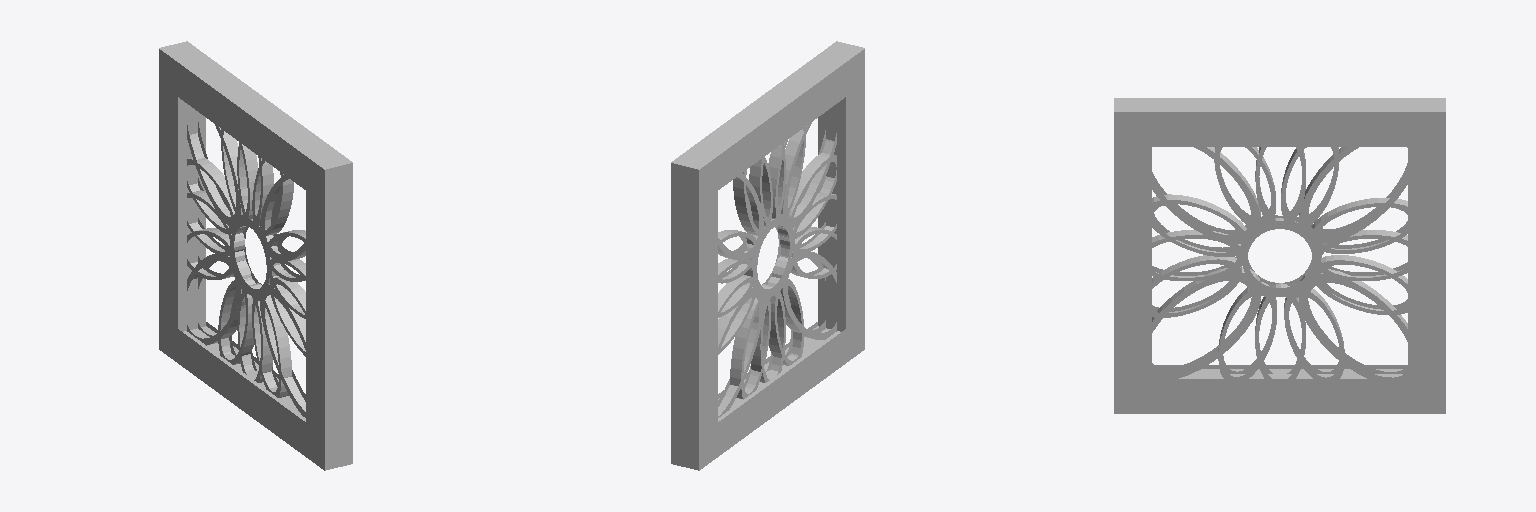
File: mirror.obj
3 renders of one model, left to right at view 1: azimuth 30°, elevation 25°; view 2: azimuth 150°, elevation 25°; view 3: azimuth 270°, elevation 25°, orthographic.
Parts seen in each view (by area): view 1: Cube, Cylinder.001, Cylinder.015, Cylinder.006, Cylinder.016, Cylinder.007, Cylinder.008, Cylinder.010, Cylinder.013, Cylinder.012, Cylinder.002, Cylinder.004 (+6 smaller); view 2: Cube, Cylinder.007, Cylinder.016, Cylinder.004, Cylinder.006, Cylinder.015, Cylinder.014, Cylinder.012, Cylinder.008, Cylinder.013, Cylinder.011, Cylinder.001 (+6 smaller); view 3: Cube, Cylinder.006, Cylinder.007, Cylinder.004, Cylinder.001, Cylinder.014, Cylinder.011, Cylinder.010, Cylinder.009, Cylinder.016, Cylinder.002, Cylinder.015 (+6 smaller).
Boxes of the visible parts, box(x1,y1,x2,y2) form: Cube: box(159, 41, 352, 470); Cylinder.001: box(187, 122, 247, 228); Cylinder.015: box(252, 292, 291, 397); Cylinder.006: box(260, 284, 305, 417); Cylinder.016: box(218, 278, 255, 364); Cylinder.007: box(187, 254, 251, 345); Cylinder.008: box(237, 283, 272, 382); Cylinder.010: box(187, 157, 246, 233); Cylinder.013: box(252, 159, 293, 236); Cylinder.012: box(221, 129, 257, 219); Cylinder.002: box(187, 190, 244, 255); Cylinder.004: box(260, 175, 305, 260); Cube: box(671, 41, 864, 470); Cylinder.007: box(718, 286, 763, 417); Cylinder.016: box(730, 295, 770, 399); Cylinder.004: box(779, 122, 836, 228); Cylinder.006: box(772, 251, 836, 339); Cylinder.015: box(767, 277, 803, 365); Cylinder.014: box(777, 153, 836, 238); Cylinder.012: box(733, 157, 772, 236); Cylinder.008: box(751, 284, 785, 382); Cylinder.013: box(768, 127, 805, 221); Cylinder.011: box(718, 275, 756, 353); Cylinder.001: box(718, 173, 763, 260); Cube: box(1114, 98, 1445, 413); Cylinder.006: box(1152, 267, 1261, 378); Cylinder.007: box(1299, 269, 1407, 378); Cylinder.004: box(1152, 147, 1260, 243); Cylinder.001: box(1299, 147, 1407, 243); Cylinder.014: box(1152, 194, 1249, 256); Cylinder.011: box(1312, 255, 1407, 314); Cylinder.010: box(1310, 198, 1407, 253); Cylinder.009: box(1152, 255, 1241, 317); Cylinder.016: box(1284, 284, 1344, 378); Cylinder.002: box(1312, 230, 1407, 280); Cylinder.015: box(1218, 282, 1276, 378).
Bounding box in the file's own units: 1 × 10 × 10.